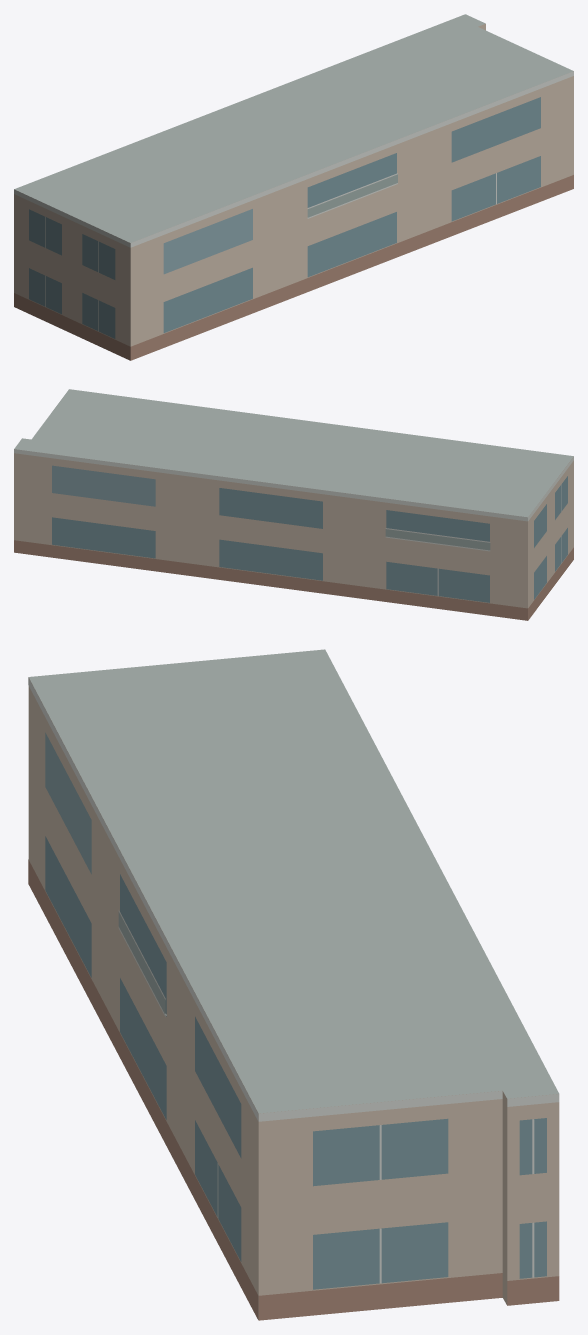
Rendered from survey-upis-33035256.glb.
3 views of the same model, one above another, from view 1: azimuth 30°, elevation 25°; view 2: azimuth 150°, elevation 25°; view 3: azimuth 270°, elevation 25° (orthographic). The views are drawn at different scales.
Visible parts, largest first — view 1: survey-upis-33035256.tmp; view 2: survey-upis-33035256.tmp; view 3: survey-upis-33035256.tmp.
Boxes of the visible parts, x1,y1,x2,y2 form: survey-upis-33035256.tmp: [14, 14, 573, 360]; survey-upis-33035256.tmp: [14, 389, 573, 620]; survey-upis-33035256.tmp: [28, 649, 559, 1320].
Bounding box in the file's own units: 29.35 × 6.1 × 14.19.
